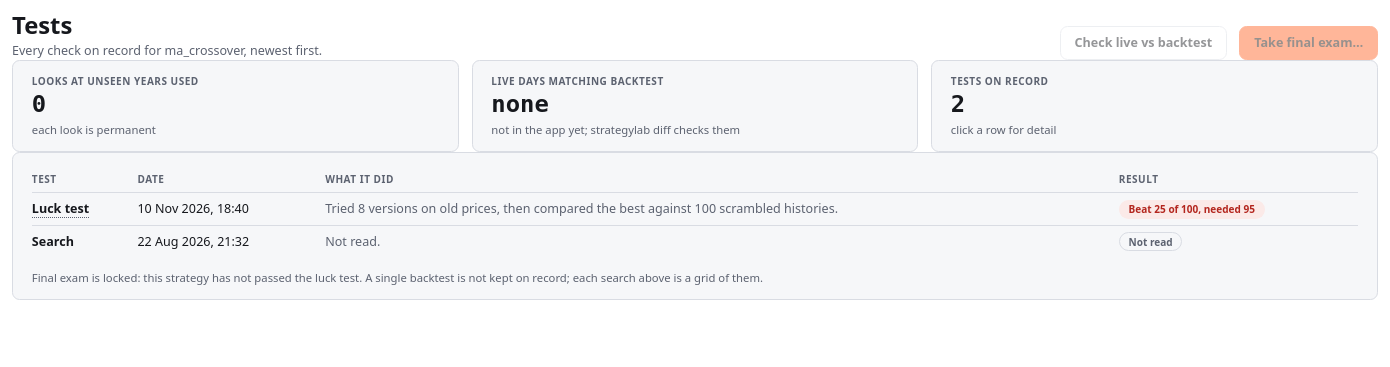
Test: Tests › opens a row's detail when it is pressed, and closes it again
Click the text "Beat 25 of 100, needed 95".
click(695, 209)  # box [32,193,1358,226]
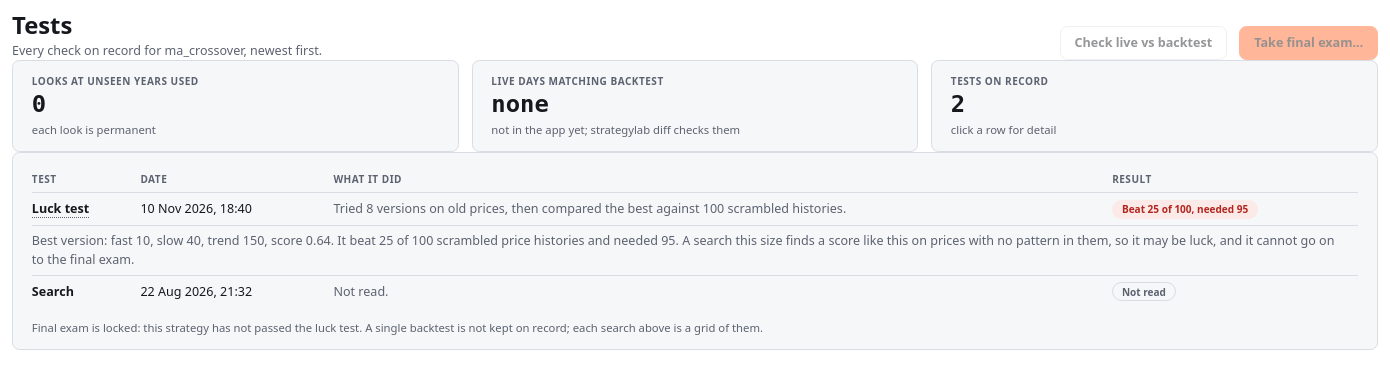
Check: the text "It beat 25 of 100 scrambled price histories" is shown, box [32,232,1334,268]
Click the text "Beat 25 of 100, needed 95".
click(695, 209)  # box [32,193,1358,226]
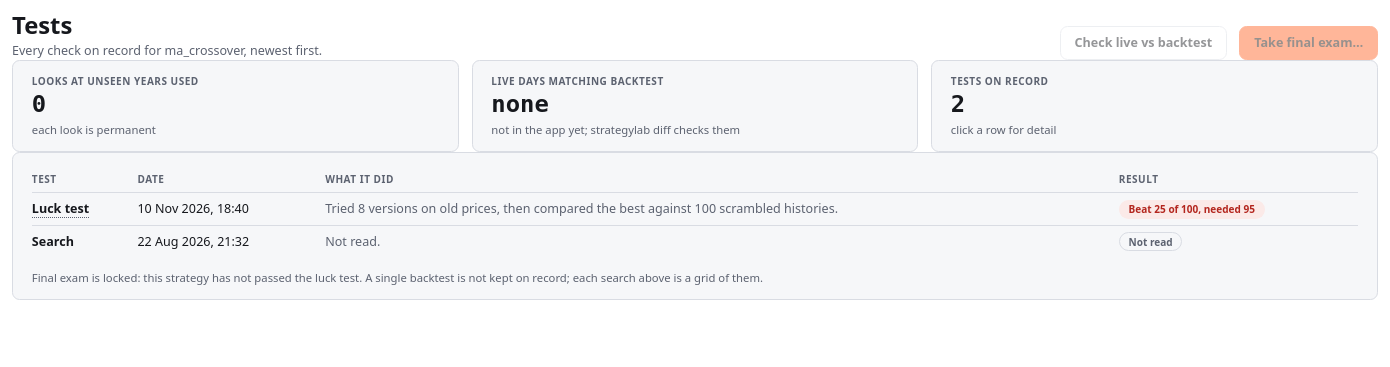
Check: the text "It beat 25 of 100 scrambled price histories" is gone
